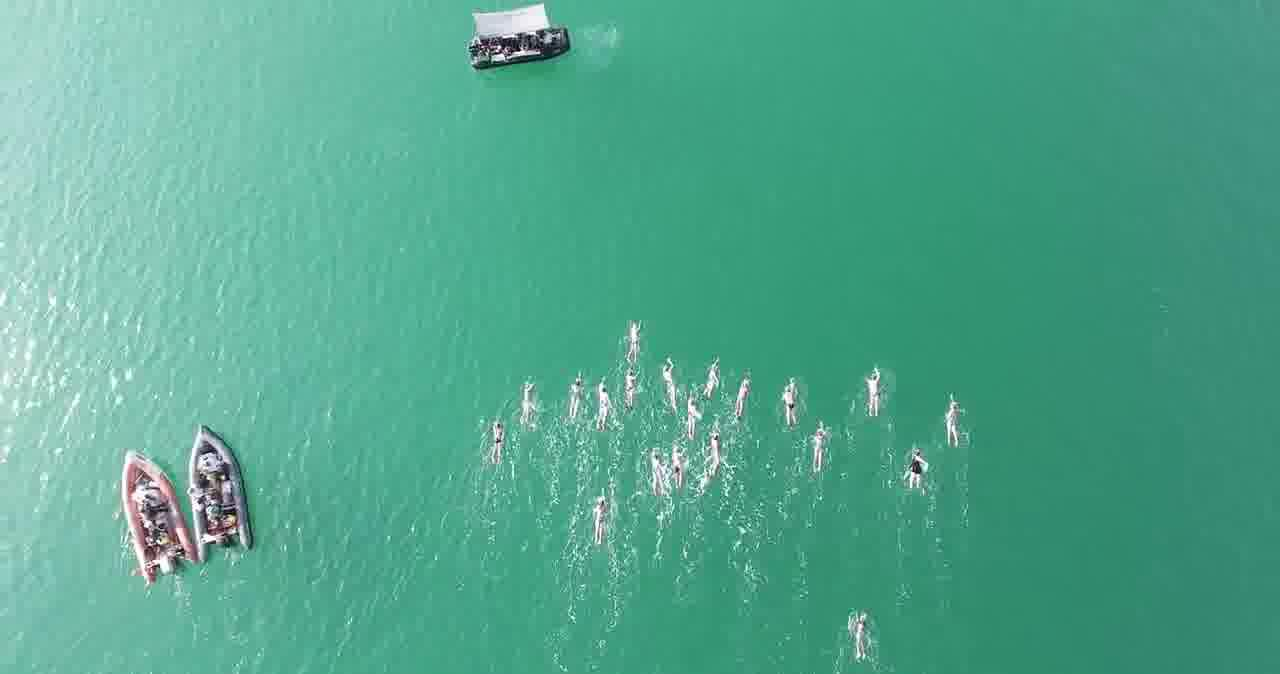swimmer: (808, 422, 828, 481), (595, 376, 616, 432), (782, 378, 803, 433), (623, 317, 644, 368), (863, 365, 882, 416), (589, 491, 607, 542), (492, 419, 510, 468), (944, 392, 959, 446), (853, 610, 868, 663)
